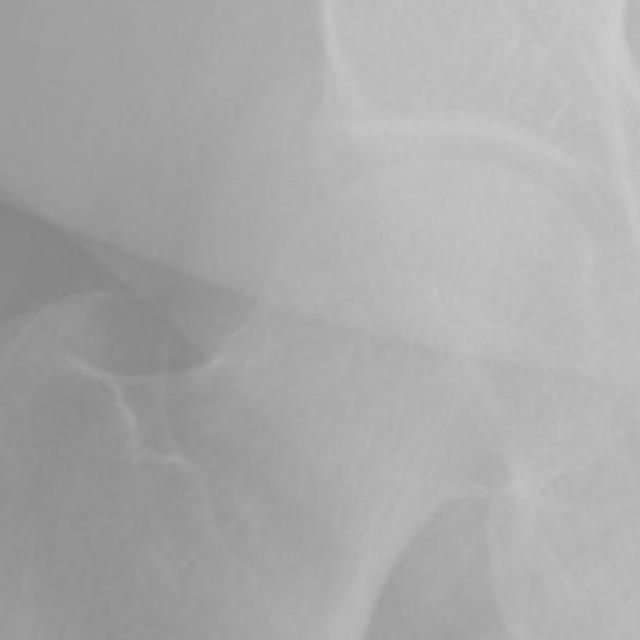Fitted_femural_head: (353, 156, 432, 353)
